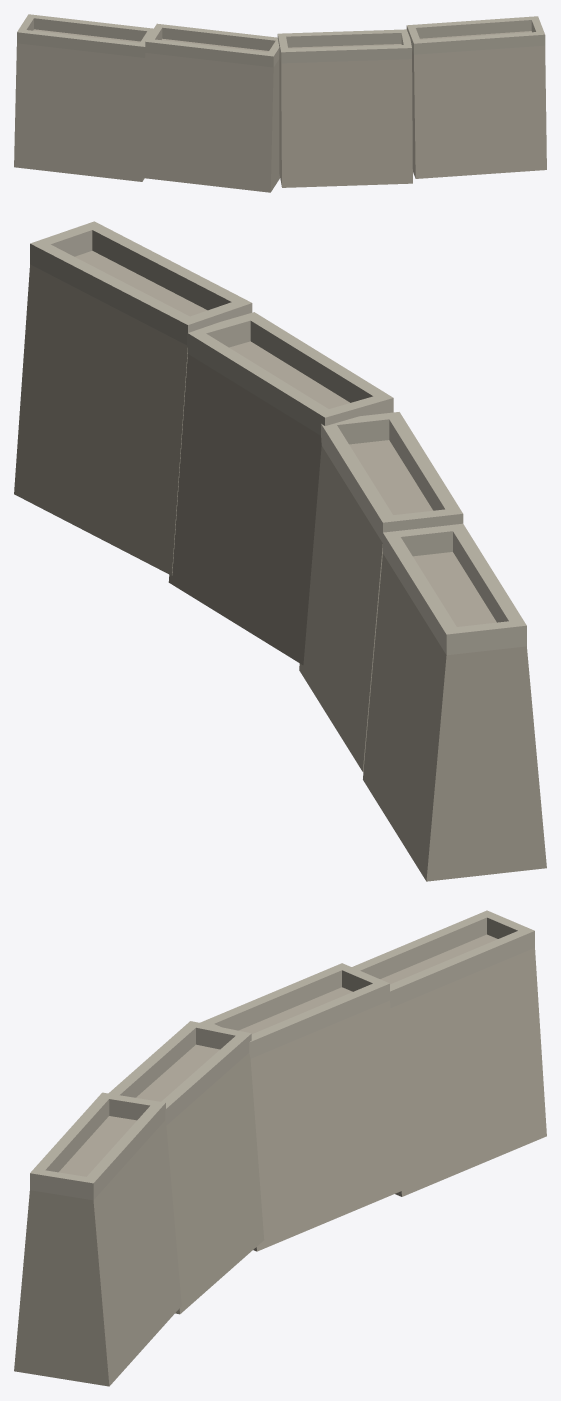
Rendered from bormla_60_25_collision.glb.
3 renders of one model, top to bottom at view 1: azimuth 30°, elevation 25°; view 2: azimuth 150°, elevation 25°; view 3: azimuth 270°, elevation 25°, orthographic. The views are drawn at different scales.
Visible parts, largest first — view 1: geometry_0; view 2: geometry_0; view 3: geometry_0.
Part boxes in pixels (bbox=[...]): geometry_0: bbox=[14, 14, 546, 192]; geometry_0: bbox=[14, 221, 546, 881]; geometry_0: bbox=[14, 910, 546, 1386].
Bounding box in the file's own units: 42.04 × 14.4 × 31.34.
